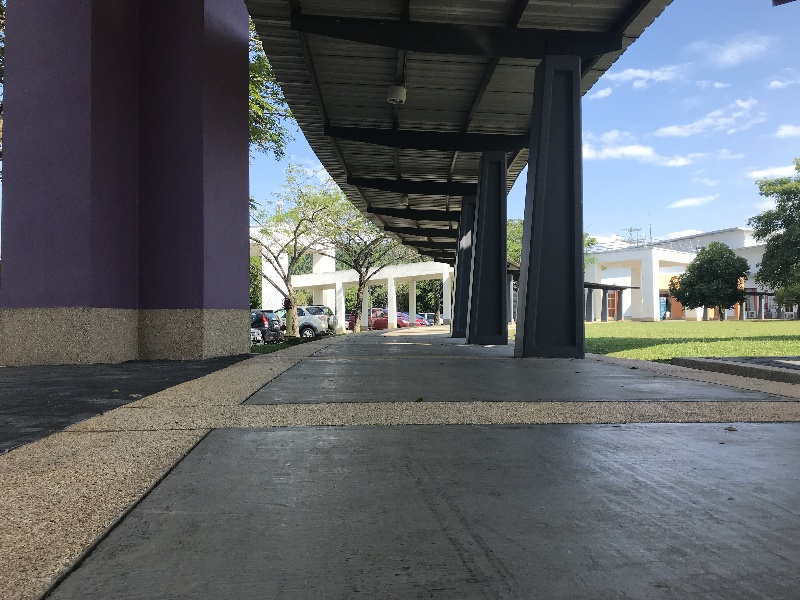Block D Pillar 7: (7, 4, 800, 529)
pillar: (4, 25, 271, 363), (513, 56, 588, 363), (462, 149, 505, 351)
